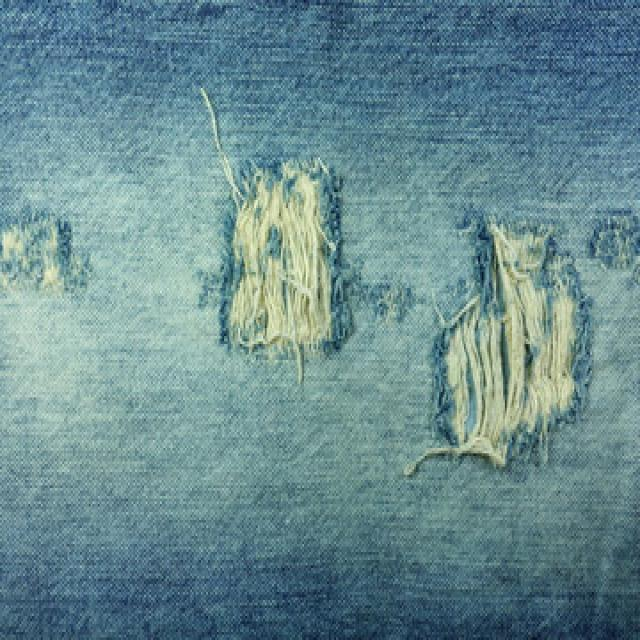Hole: (419, 218, 593, 468), (223, 158, 352, 368), (0, 212, 89, 294), (592, 210, 640, 268)
